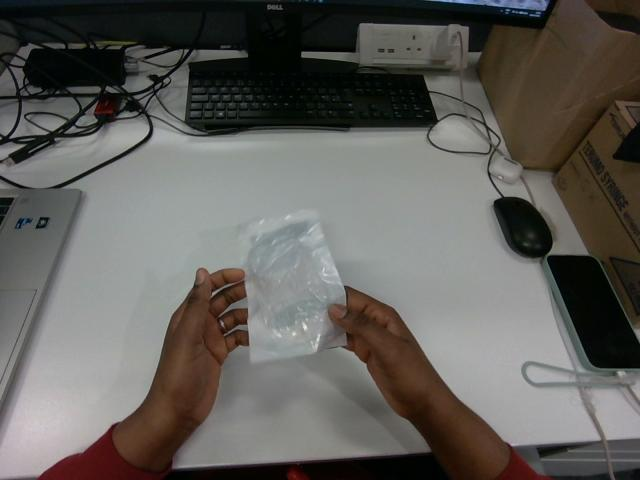gallipot: (239, 210, 345, 362)
